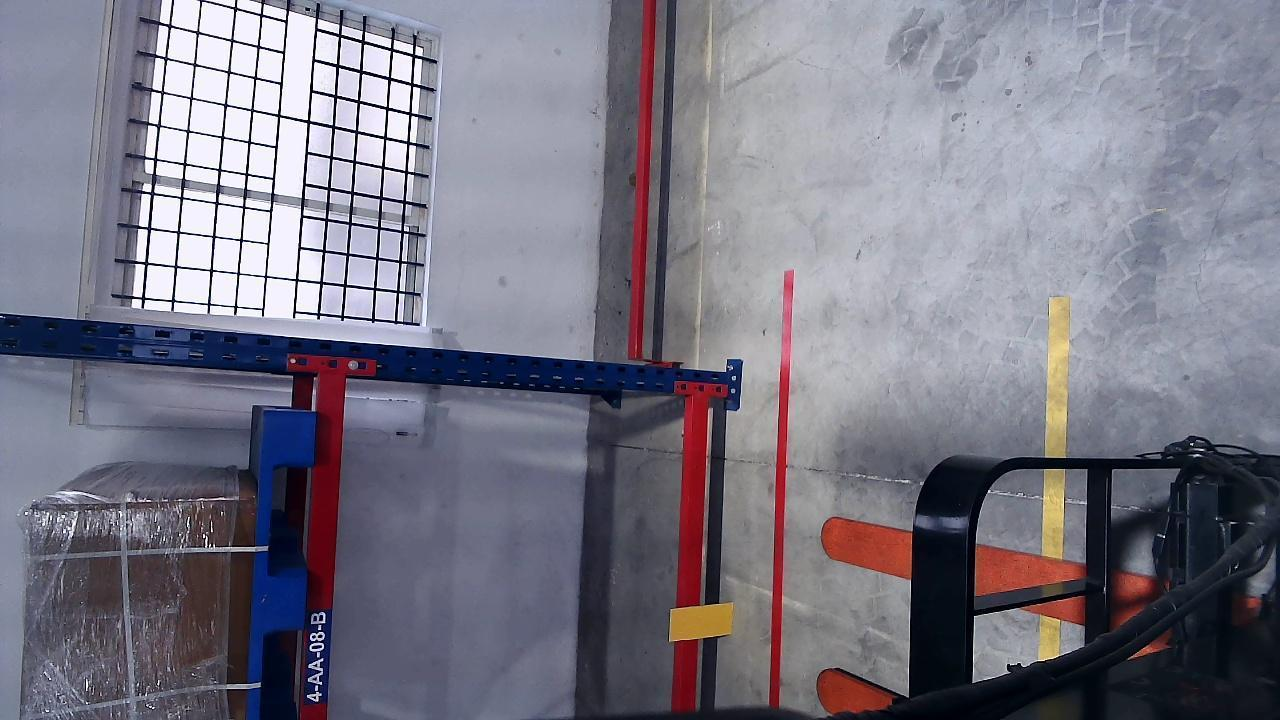red_line: (765, 276, 792, 707)
yellow_line: (1044, 297, 1071, 456)
